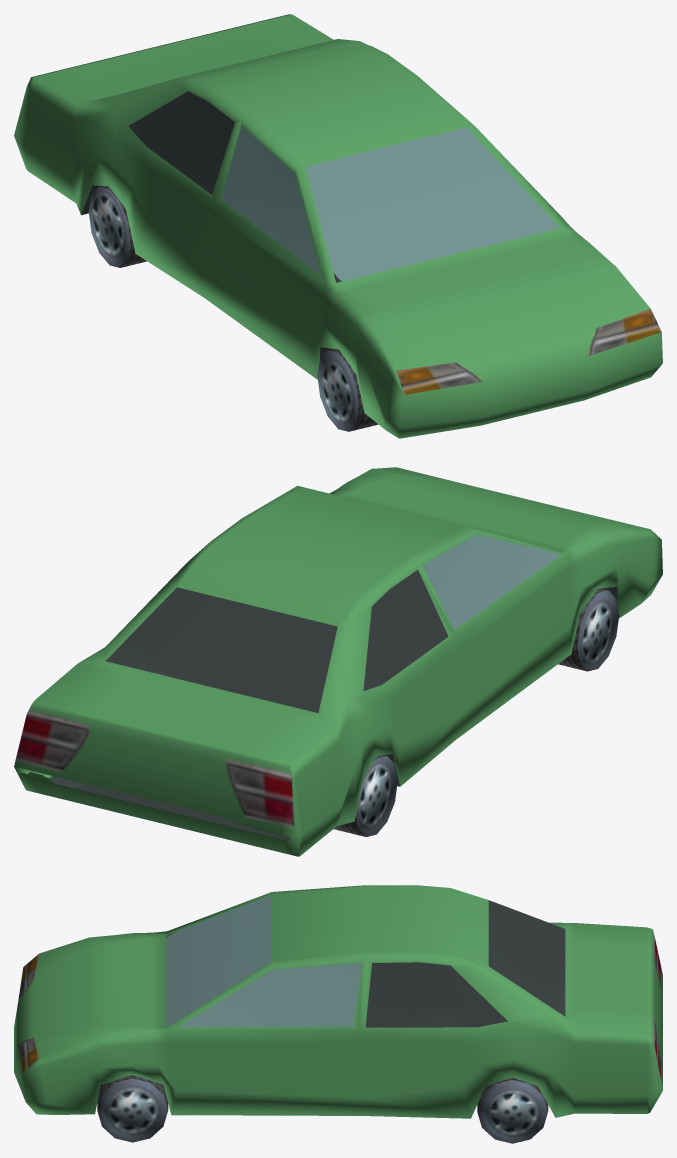
File: GirlsCamry.fbx
3 renders of one model, top to bottom at view 1: azimuth 30°, elevation 25°; view 2: azimuth 150°, elevation 25°; view 3: azimuth 270°, elevation 25°, orthographic. The views are drawn at different scales.
Parts seen in each view (by area): view 1: Girls_Camry; view 2: Girls_Camry; view 3: Girls_Camry.
Boxes of the visible parts, left/top/right/bottom form: Girls_Camry: left=14, top=14, right=662, bottom=438; Girls_Camry: left=14, top=467, right=662, bottom=856; Girls_Camry: left=14, top=885, right=662, bottom=1143.
Size of the model in its own units: 8.63 by 5.93 by 20.48.
